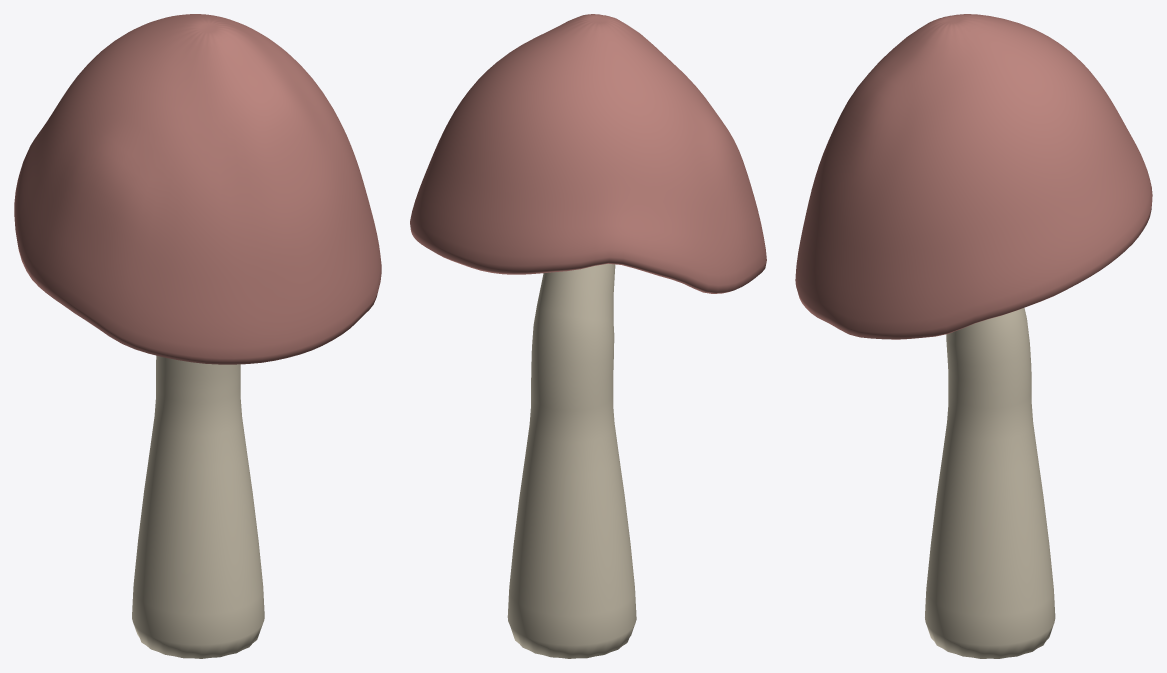
The model's file is Mushroom3.fbx.
3 renders of one model, left to right at view 1: azimuth 30°, elevation 25°; view 2: azimuth 150°, elevation 25°; view 3: azimuth 270°, elevation 25°, orthographic. The views are drawn at different scales.
Parts seen in each view (by area): view 1: Head5, Base5; view 2: Head5, Base5; view 3: Head5, Base5.
Part boxes in pixels (box(x1,y1,x2,y2)): Head5: box(14, 14, 381, 364); Base5: box(132, 355, 264, 658); Head5: box(410, 14, 766, 293); Base5: box(507, 264, 636, 658); Head5: box(795, 14, 1152, 339); Base5: box(925, 308, 1055, 658).
Size of the model in its own units: 2.47 by 4.63 by 2.43.
